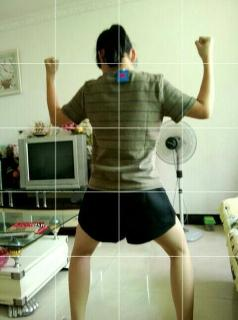short sleeve top: (60, 70, 196, 192)
shorts: (78, 179, 176, 245)
